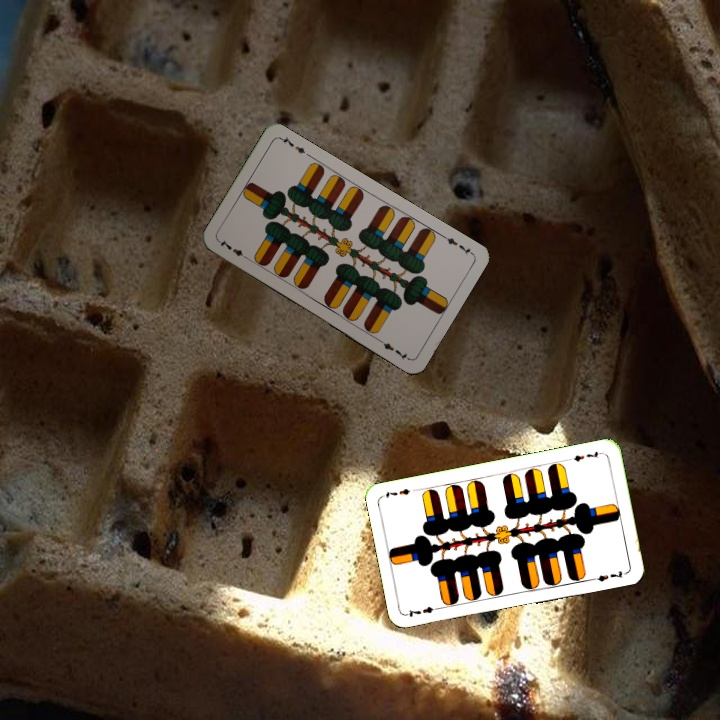E7: (215, 235, 251, 263), (438, 231, 475, 258), (403, 602, 443, 620), (565, 447, 605, 464)
